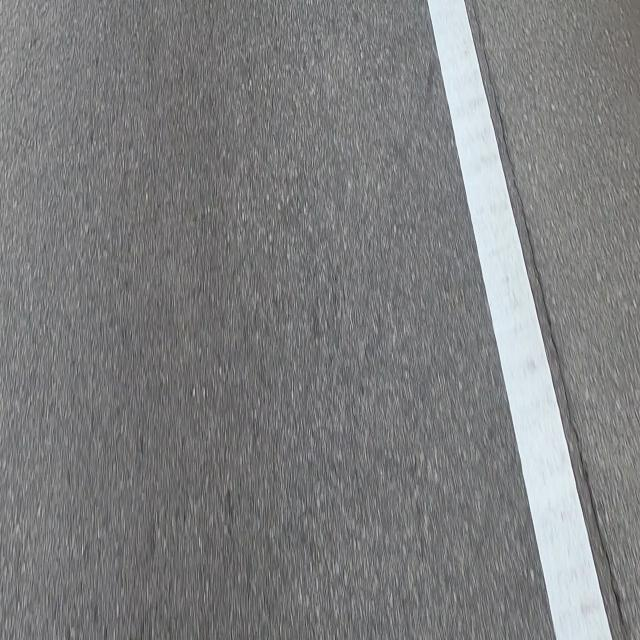Retak-Memanjang: (469, 0, 629, 633)
